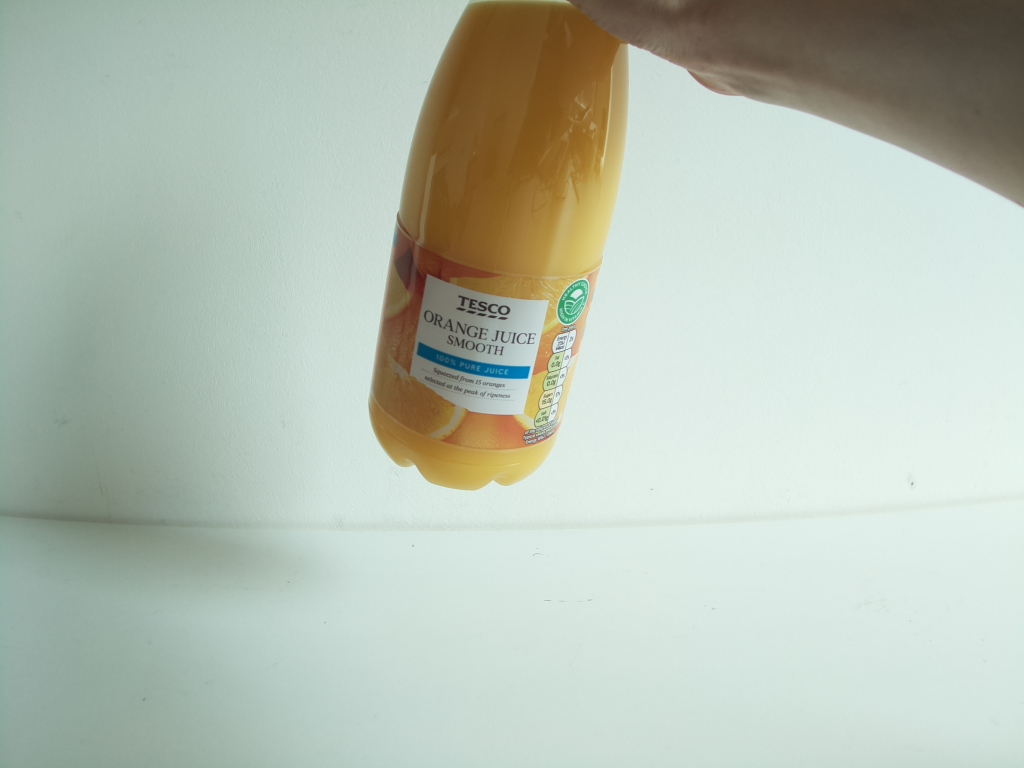juice: (359, 1, 638, 491)
